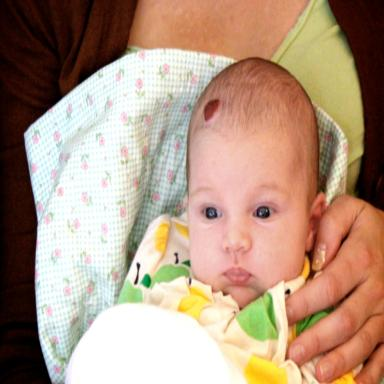Hemangiome: (204, 100, 220, 121)
